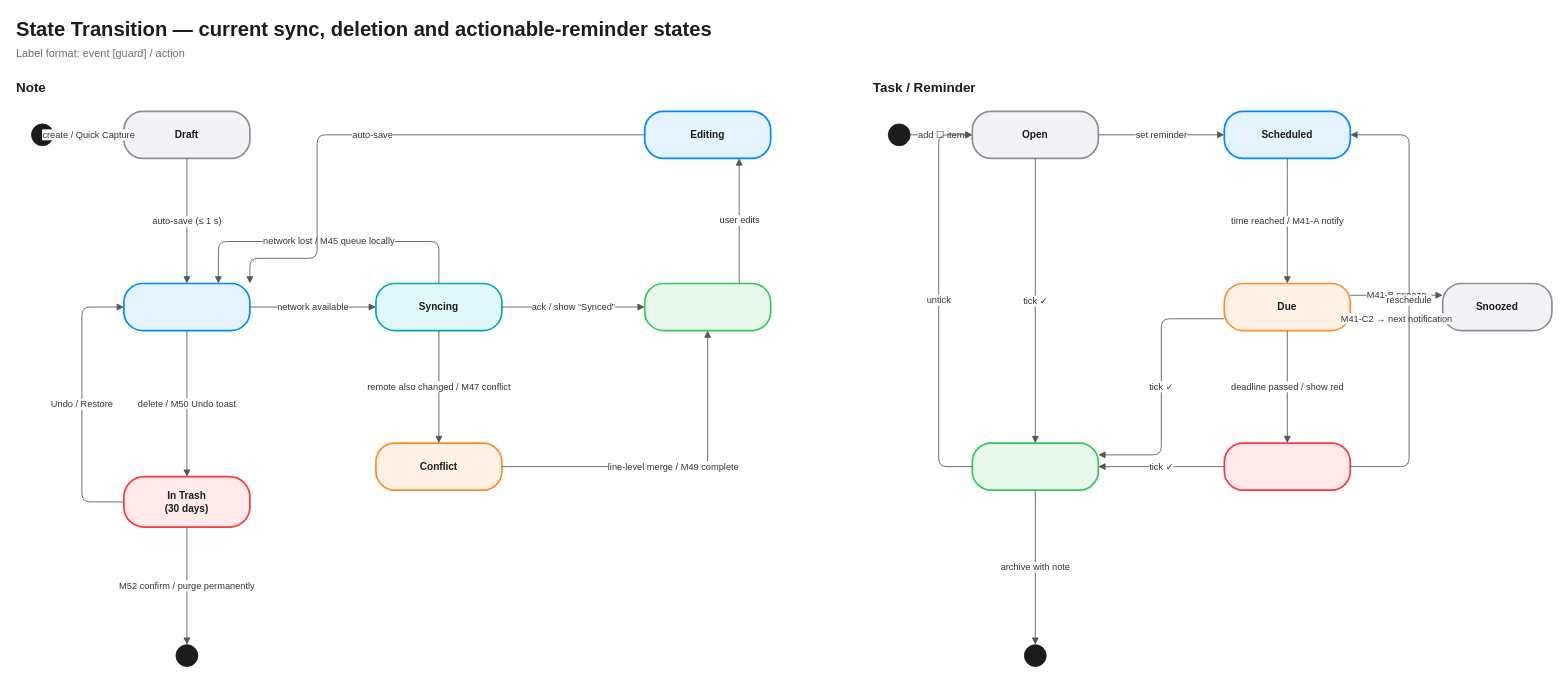
The diagram is 1567 pixels wide and 681 high, and some of its shapes have lost their labels. Each missing label, with the box of its shape:
Done ✓: (971, 442, 1099, 491)
Overdue: (1223, 442, 1351, 491)
Saved on device: (123, 282, 250, 331)
Synced: (643, 282, 771, 331)
